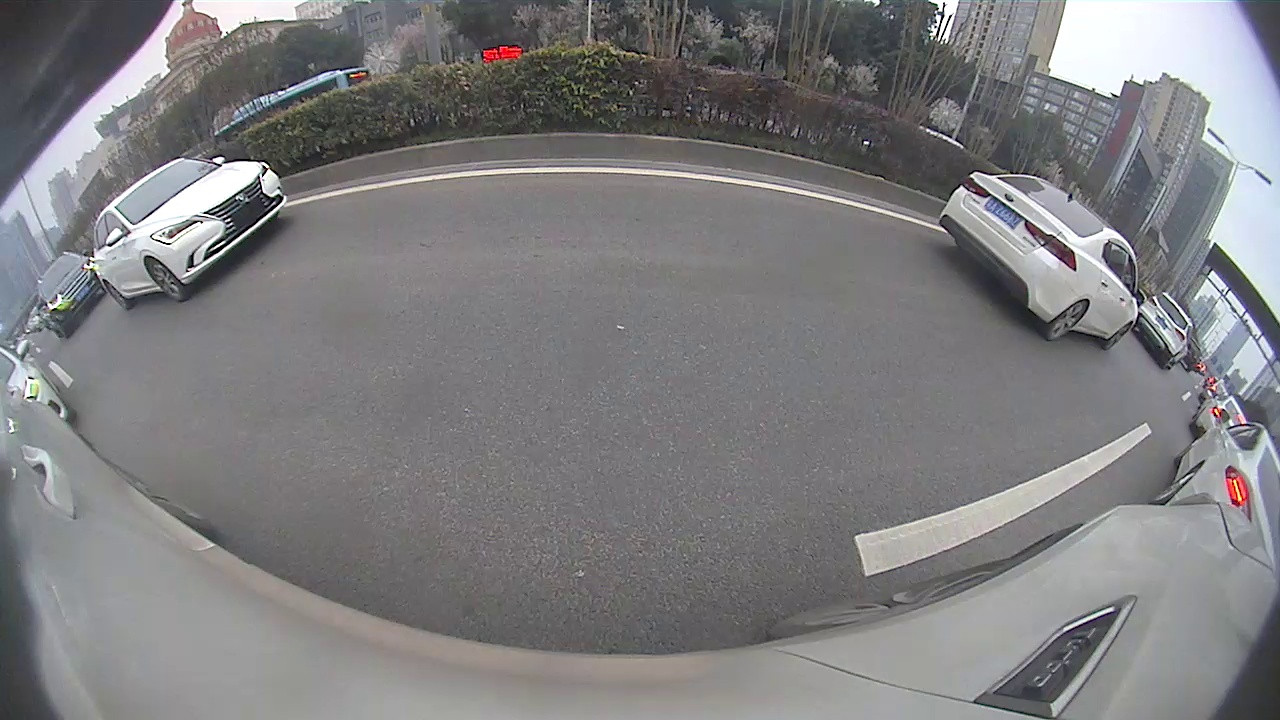car: (937, 170, 1147, 357), (92, 154, 285, 312), (1147, 409, 1279, 546), (33, 253, 104, 340), (1138, 288, 1195, 372)
front: (147, 255, 187, 302), (1104, 323, 1131, 350)
rear: (1044, 298, 1089, 342), (105, 280, 130, 310)
